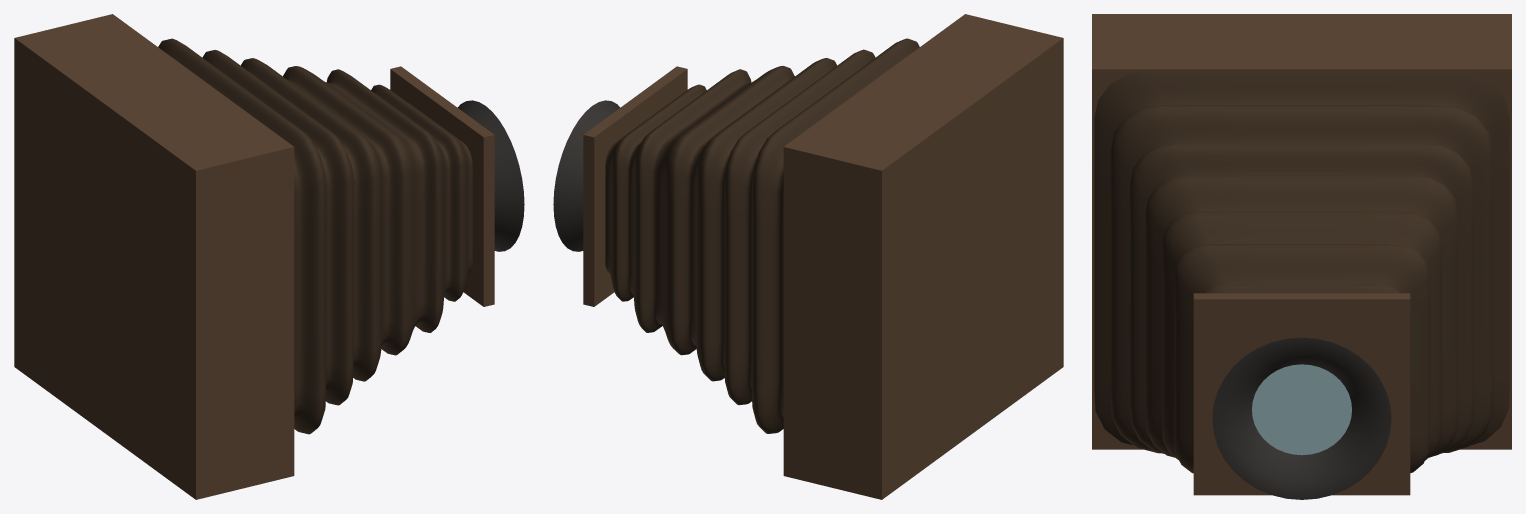
The model's file is Camara.fbx.
3 renders of one model, left to right at view 1: azimuth 30°, elevation 25°; view 2: azimuth 150°, elevation 25°; view 3: azimuth 270°, elevation 25°, orthographic. The views are drawn at different scales.
Visible parts, largest first — view 1: Cylinder_2; view 2: Cylinder_2; view 3: Cylinder_2.
Part boxes in pixels (bbox=[...]): Cylinder_2: bbox=[14, 14, 524, 499]; Cylinder_2: bbox=[553, 14, 1063, 499]; Cylinder_2: bbox=[1092, 14, 1511, 499].
Bounding box in the file's own units: 29.22 × 24.15 × 24.15.
